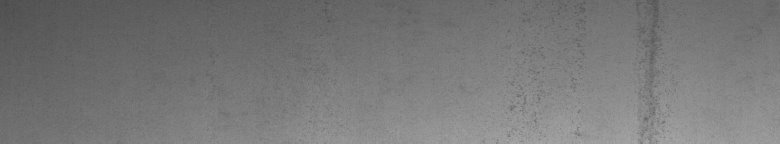ib: (508, 4, 665, 136)
